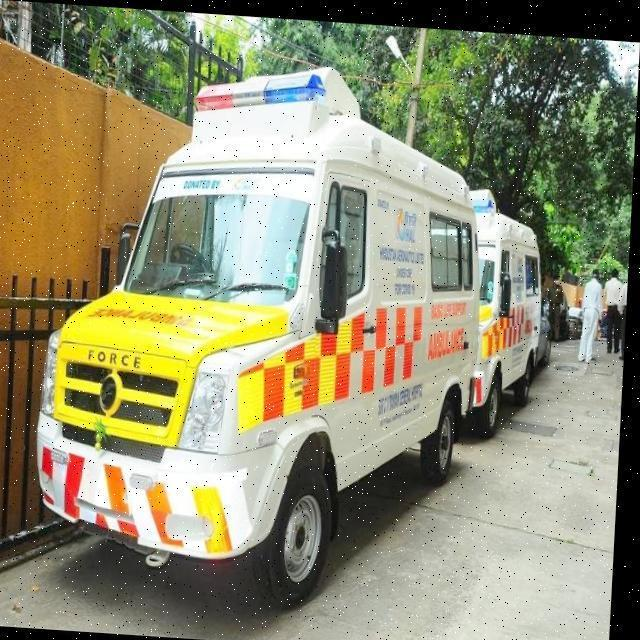Ambulance: (27, 44, 570, 625), (0, 287, 627, 640), (458, 180, 560, 435), (576, 258, 610, 358)
